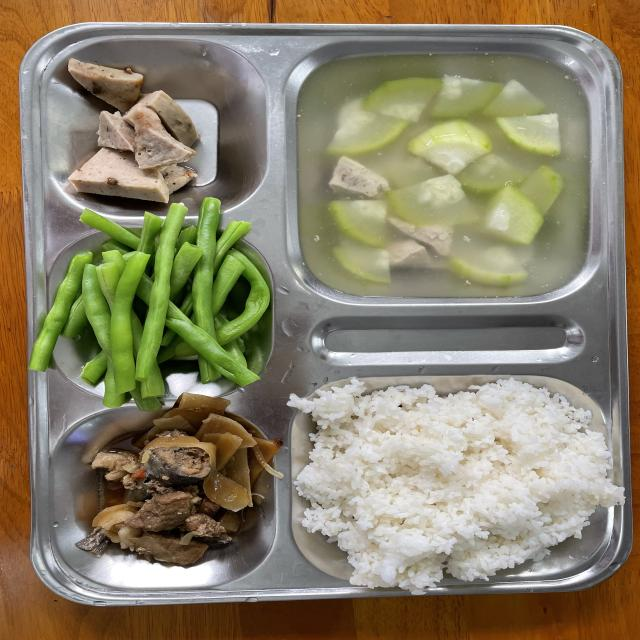bo xao: (76, 393, 283, 565)
canh bau: (299, 53, 591, 298)
com: (290, 379, 623, 590)
dau que: (29, 198, 270, 410)
